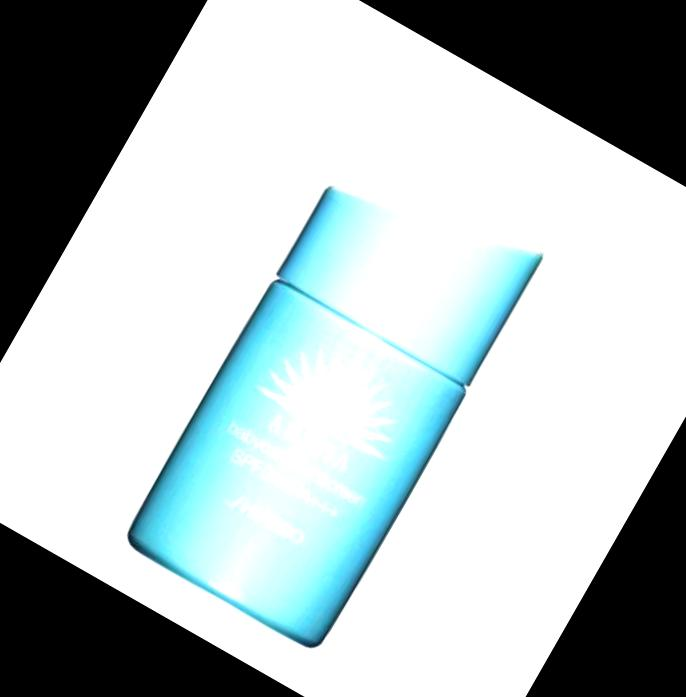cosmetic: (120, 139, 552, 657)
